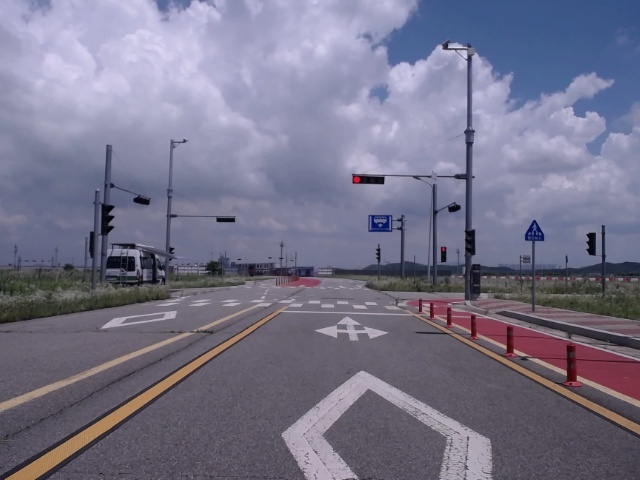red_4: (352, 176, 384, 184)
